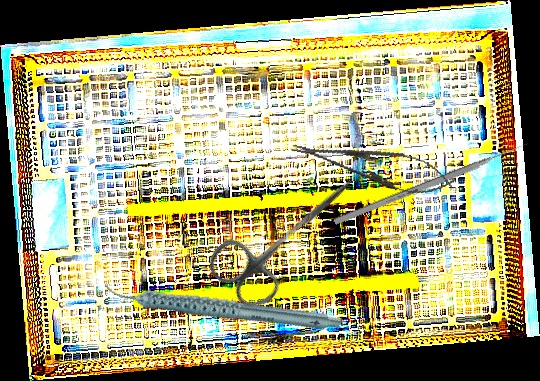Handpiece: (102, 233, 343, 377)
Iris Scissors: (201, 148, 378, 318)
Needle Holder: (287, 127, 459, 204)
Pusher: (333, 140, 530, 226)
